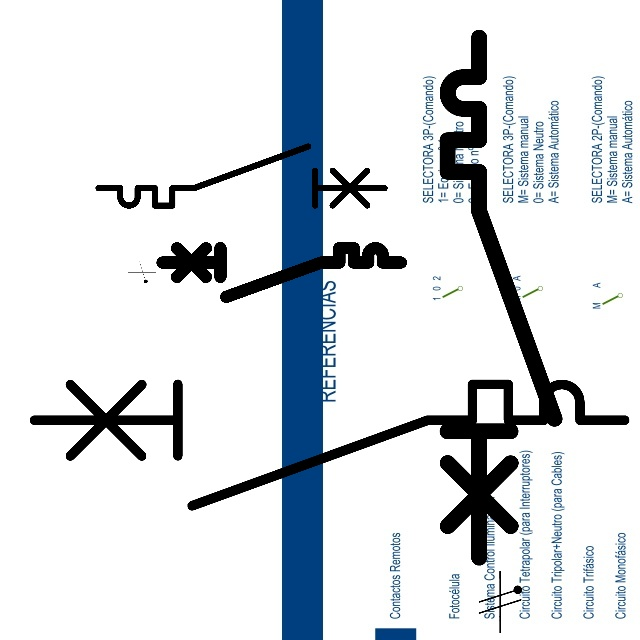interruptor_termomagnetico: (19, 369, 640, 521), (434, 24, 568, 571), (91, 139, 392, 213), (156, 242, 407, 303)
